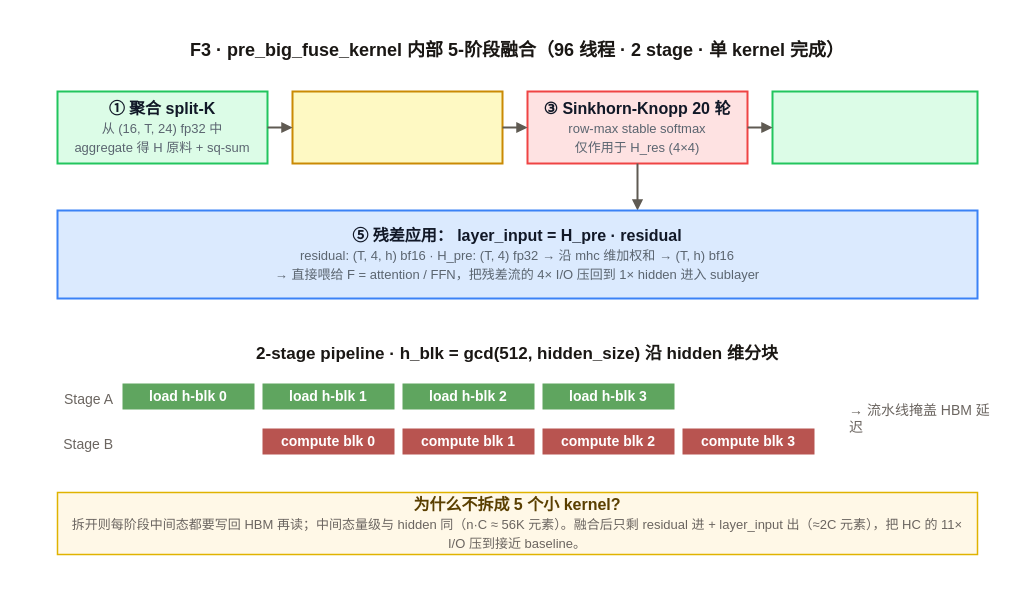
Some shapes in this 1034 by 594 pixel diagram are drawn without their labels. The centre of each missing label's shape, as x and y in pixels:
② RMSNorm + α/β rsqrt(sq_sum/h+ε_rms) 乘 mhc_scale + mhc_base: [397,127]
④ σ / 2σ mixing post_mix, comb_mix 写 fp32 post 用 mhc_post_mult=2: [874,127]
